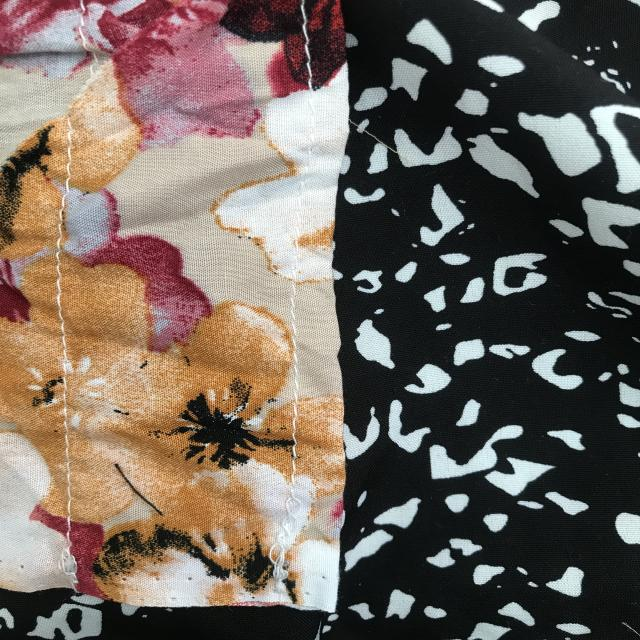good: (49, 256, 86, 518)
